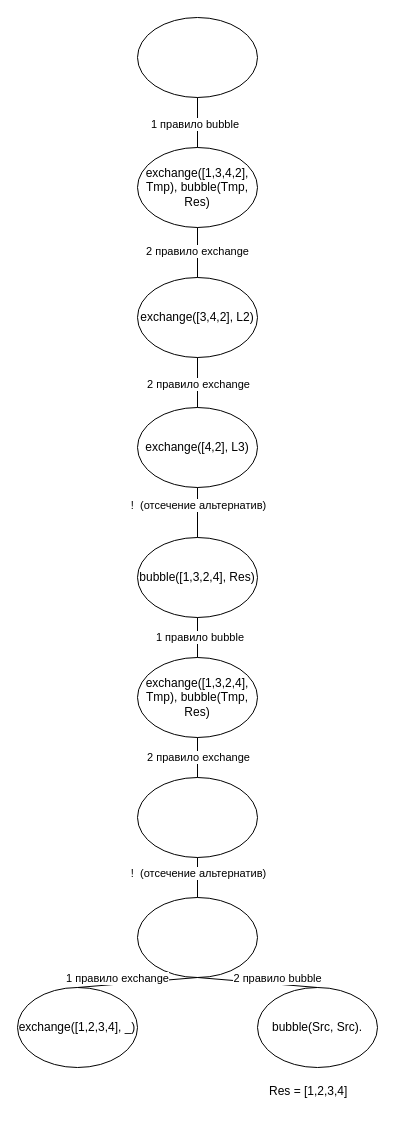
Image size: 395x1135. Some labels were removed from this diagram. The centre of each missing label's shape, as x and y in pixels:
"bubble([1,2,3,4], Res)" belongs at point 197,937.
"bubble([1,3,4,2], Res)" belongs at point 197,57.
"exchange([3,2,4], L4)" belongs at point 197,817.
